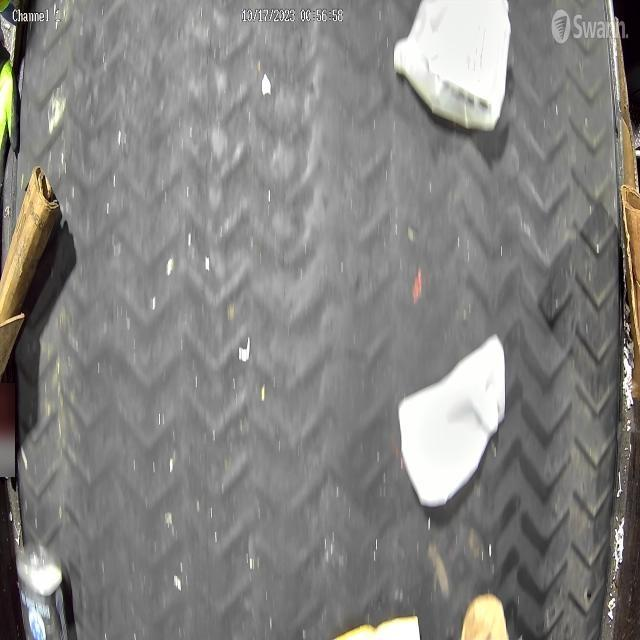milk_jug: (399, 329, 506, 512), (394, 0, 511, 130)
